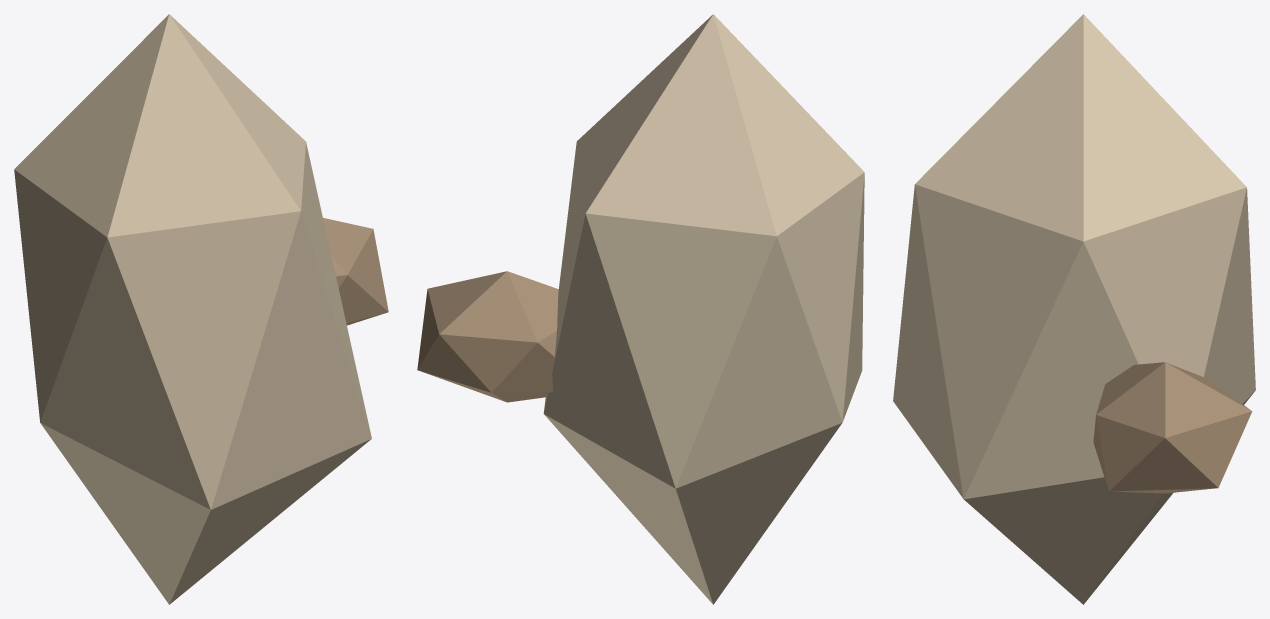
File: ENV_Rock_B.glb
3 renders of one model, left to right at view 1: azimuth 30°, elevation 25°; view 2: azimuth 150°, elevation 25°; view 3: azimuth 270°, elevation 25°, orthographic.
Visible parts, largest first — view 1: Rock, Chip; view 2: Rock, Chip; view 3: Rock, Chip.
Boxes of the visible parts, bbox=[...] form: Rock: bbox=[14, 14, 371, 604]; Chip: bbox=[323, 218, 388, 325]; Rock: bbox=[543, 14, 864, 604]; Chip: bbox=[417, 271, 558, 402]; Rock: bbox=[893, 14, 1255, 604]; Chip: bbox=[1093, 362, 1252, 493].
Bounding box in the file's own units: 1.59 × 2.39 × 1.33.
